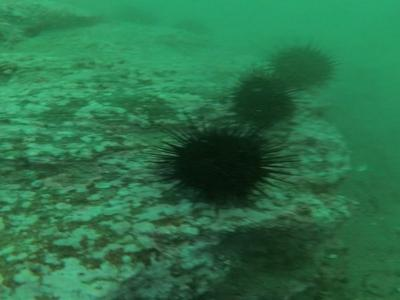urchin: (160, 120, 301, 215), (231, 73, 299, 133), (271, 45, 339, 93)
